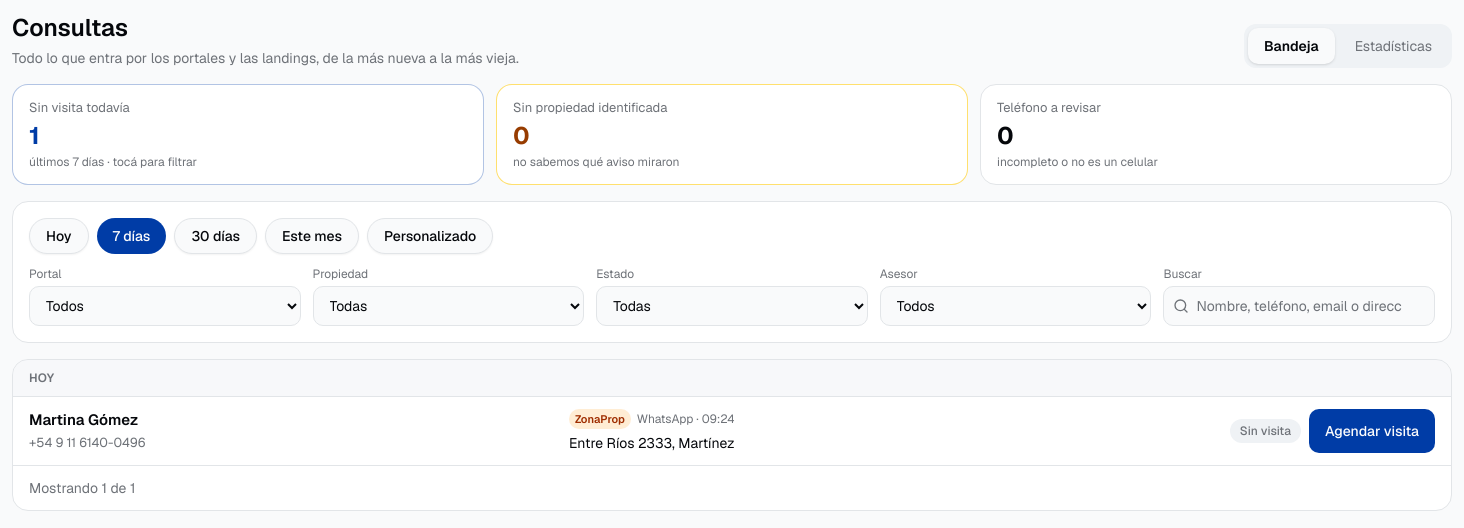
/consultas — bandeja › si falla el período nuevo, se ve SOLO el error: no quedan los datos del anterior como si fueran del nuevo
Expected: the text "Martina Gómez" is shown, [29, 409, 138, 431]
Click the button "30 días".
click(216, 236)  # box [174, 218, 257, 254]
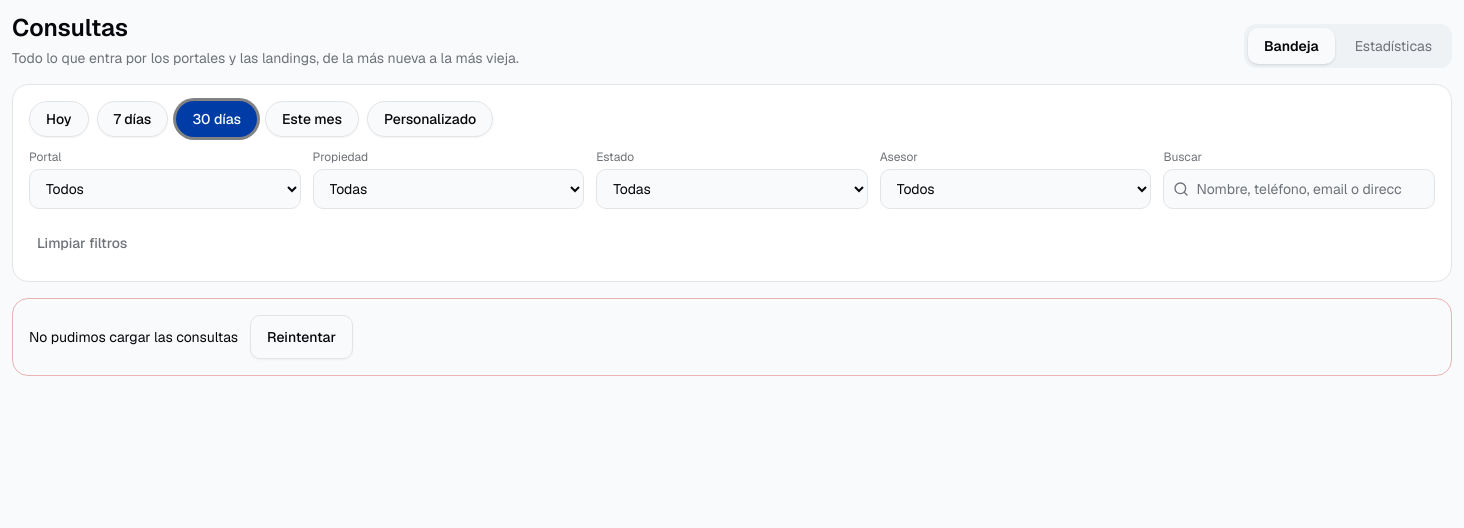
Expected: the text "No pudimos cargar las consultas" is shown, [29, 327, 238, 347]
Expected: the button "Martina Gómez" is gone
// Volver al período que estaba guardado lo muestra sin pedir.
Click the button "7 días".
click(132, 119)  # box [96, 101, 168, 137]
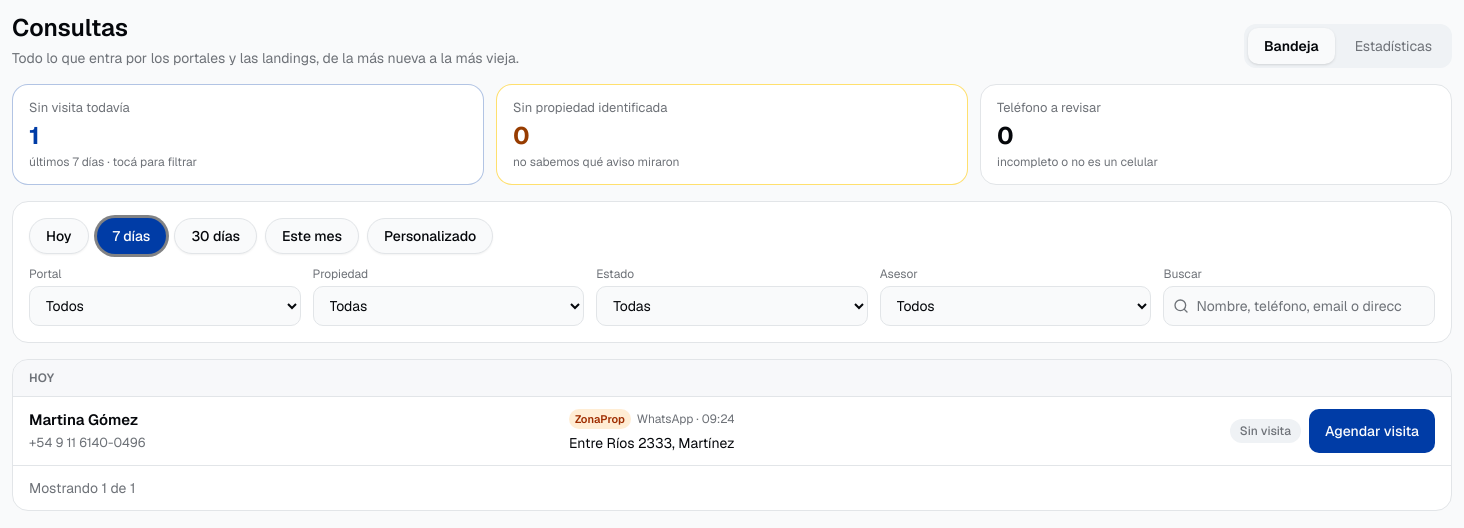
Expected: the text "Martina Gómez" is shown, [29, 409, 138, 431]
